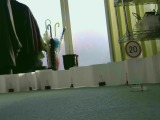speed_20: (122, 40, 143, 58)
